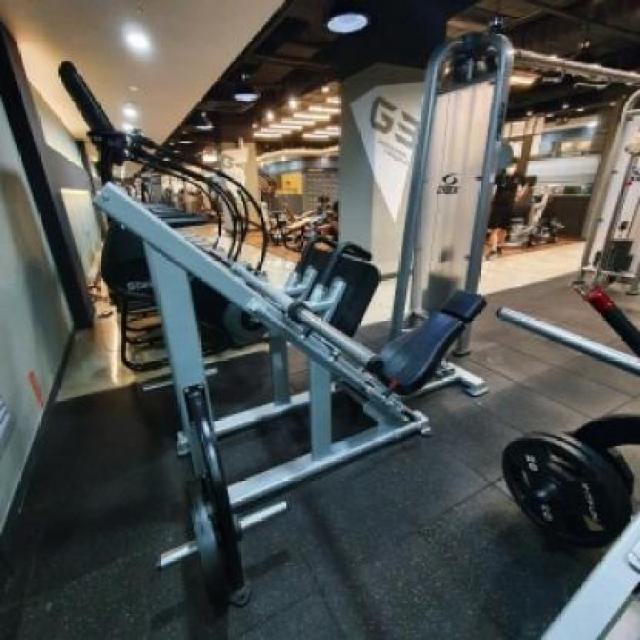leg press: (34, 111, 640, 640)
